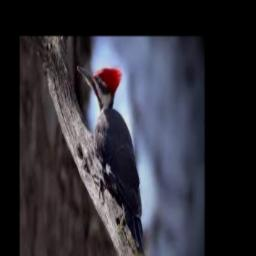Woodpecker: (77, 65, 144, 252)
